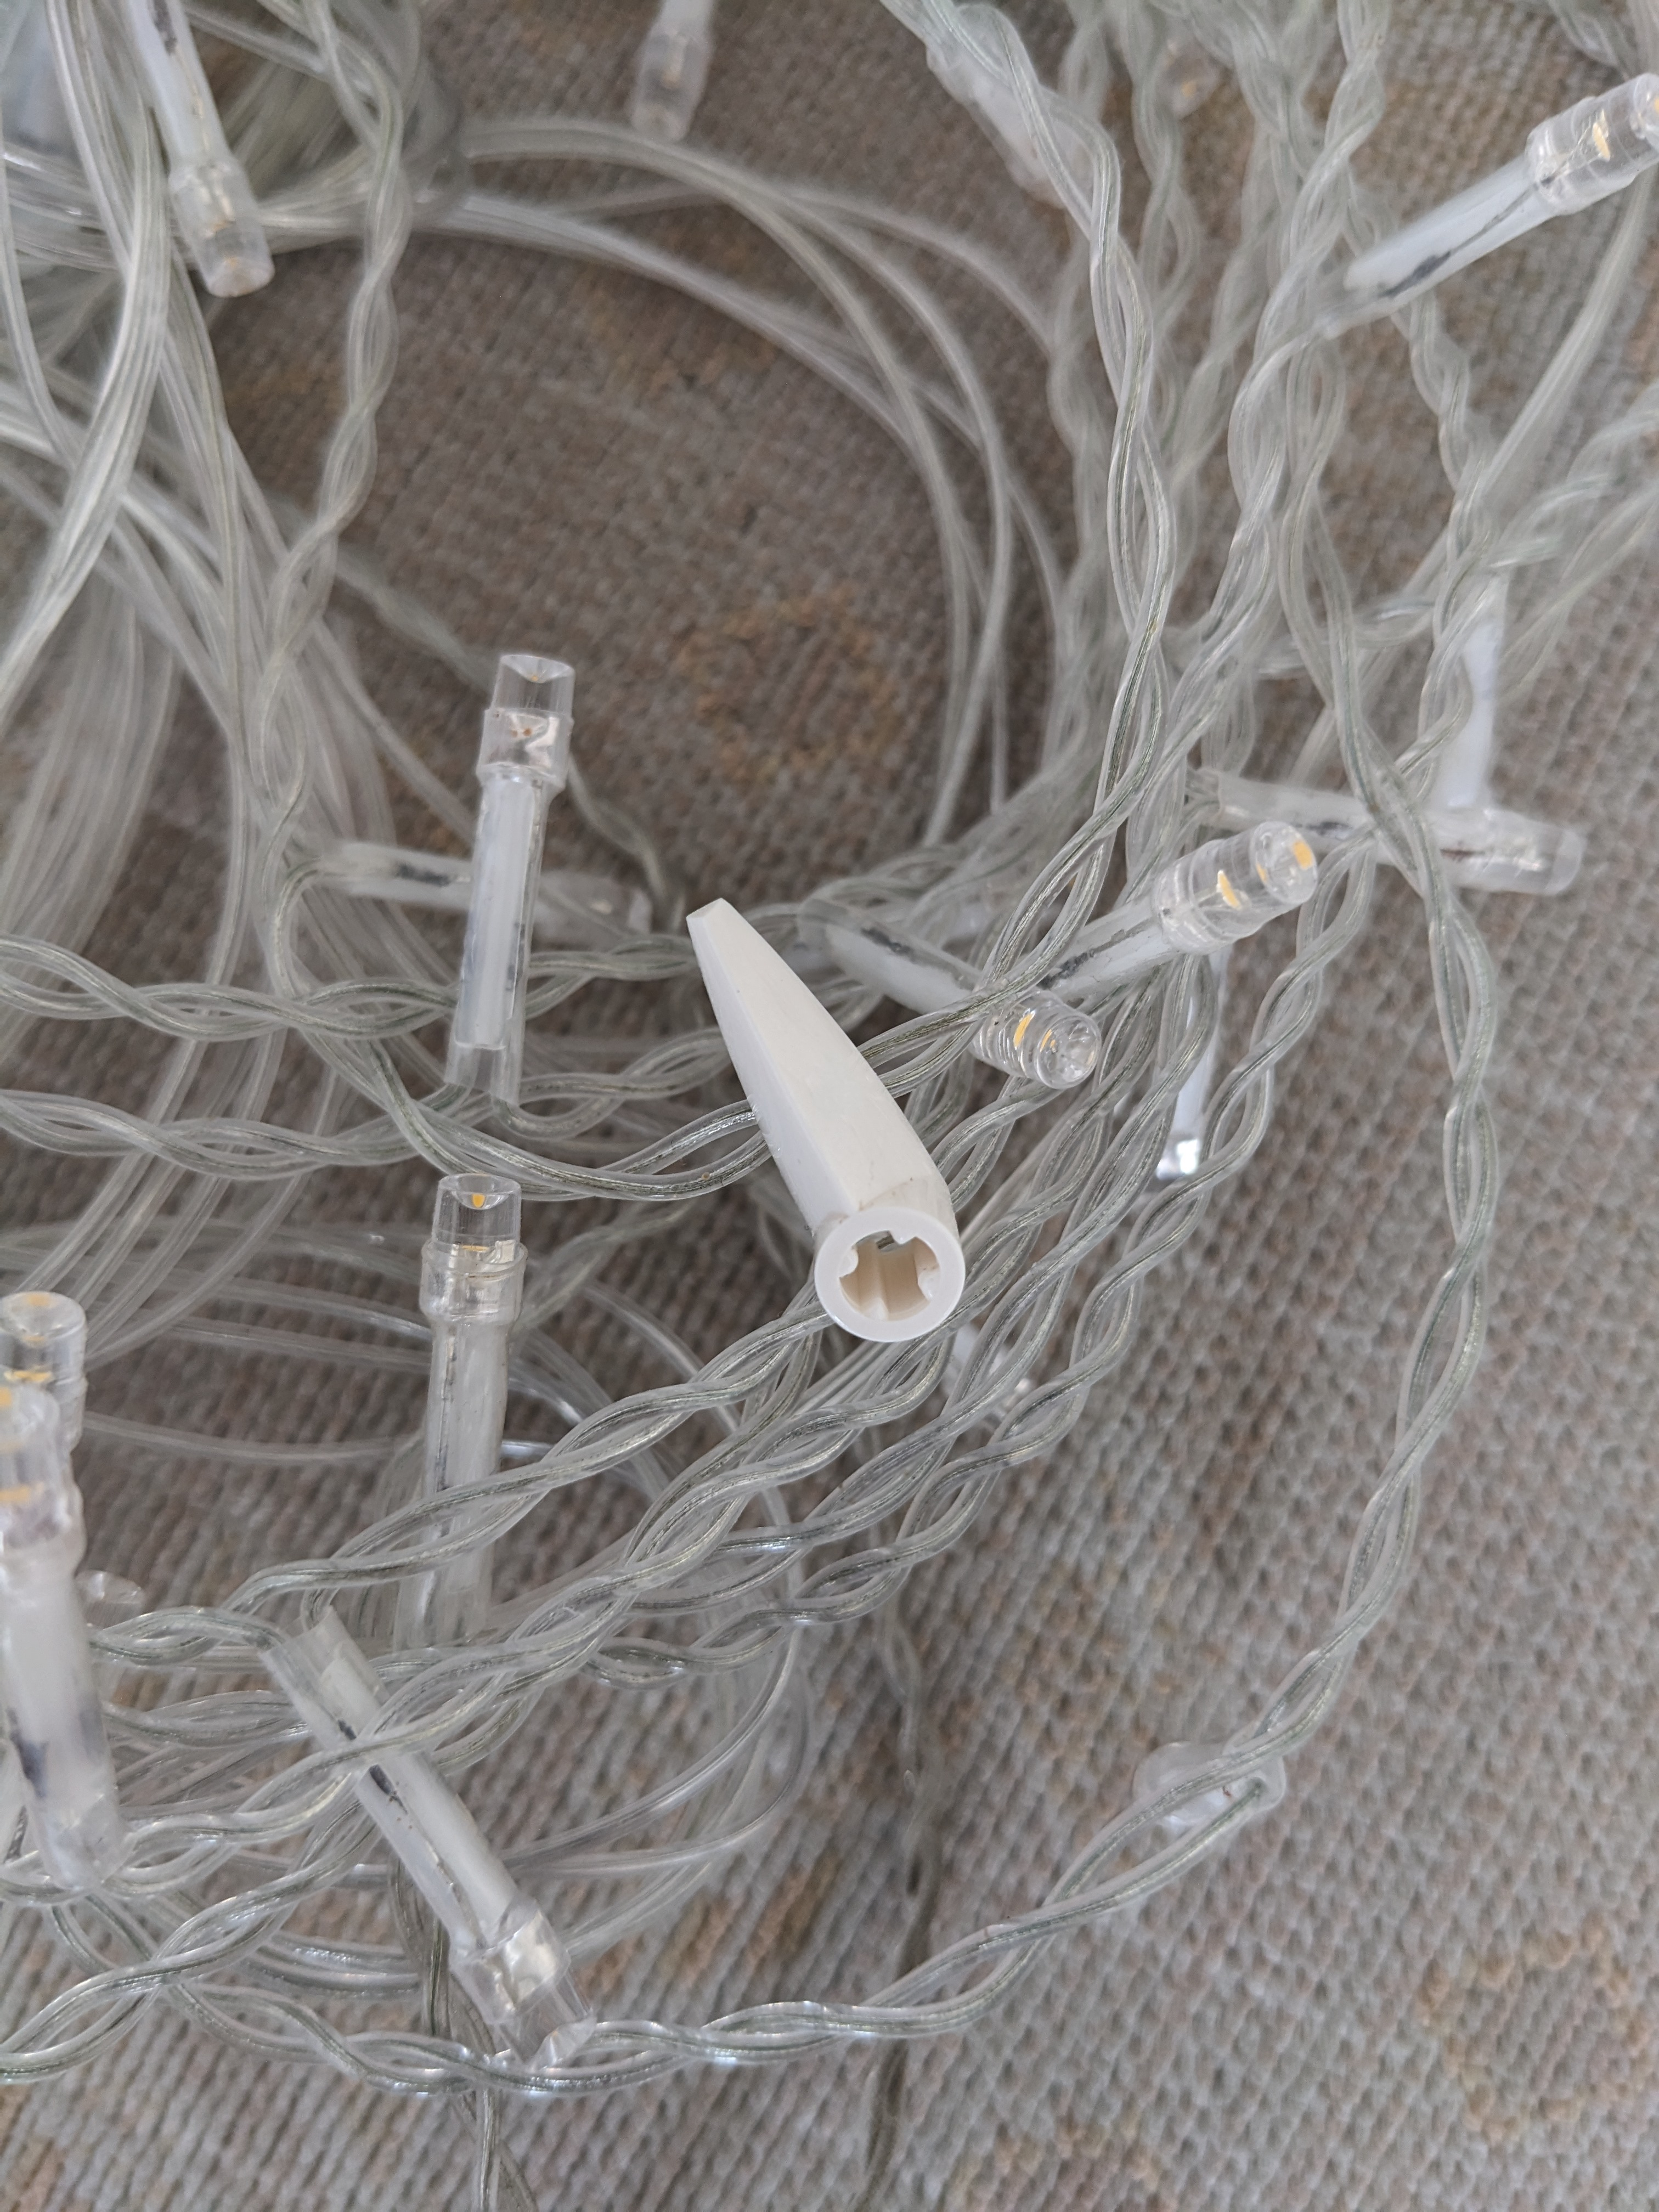Kappe: (673, 880, 999, 1364)
